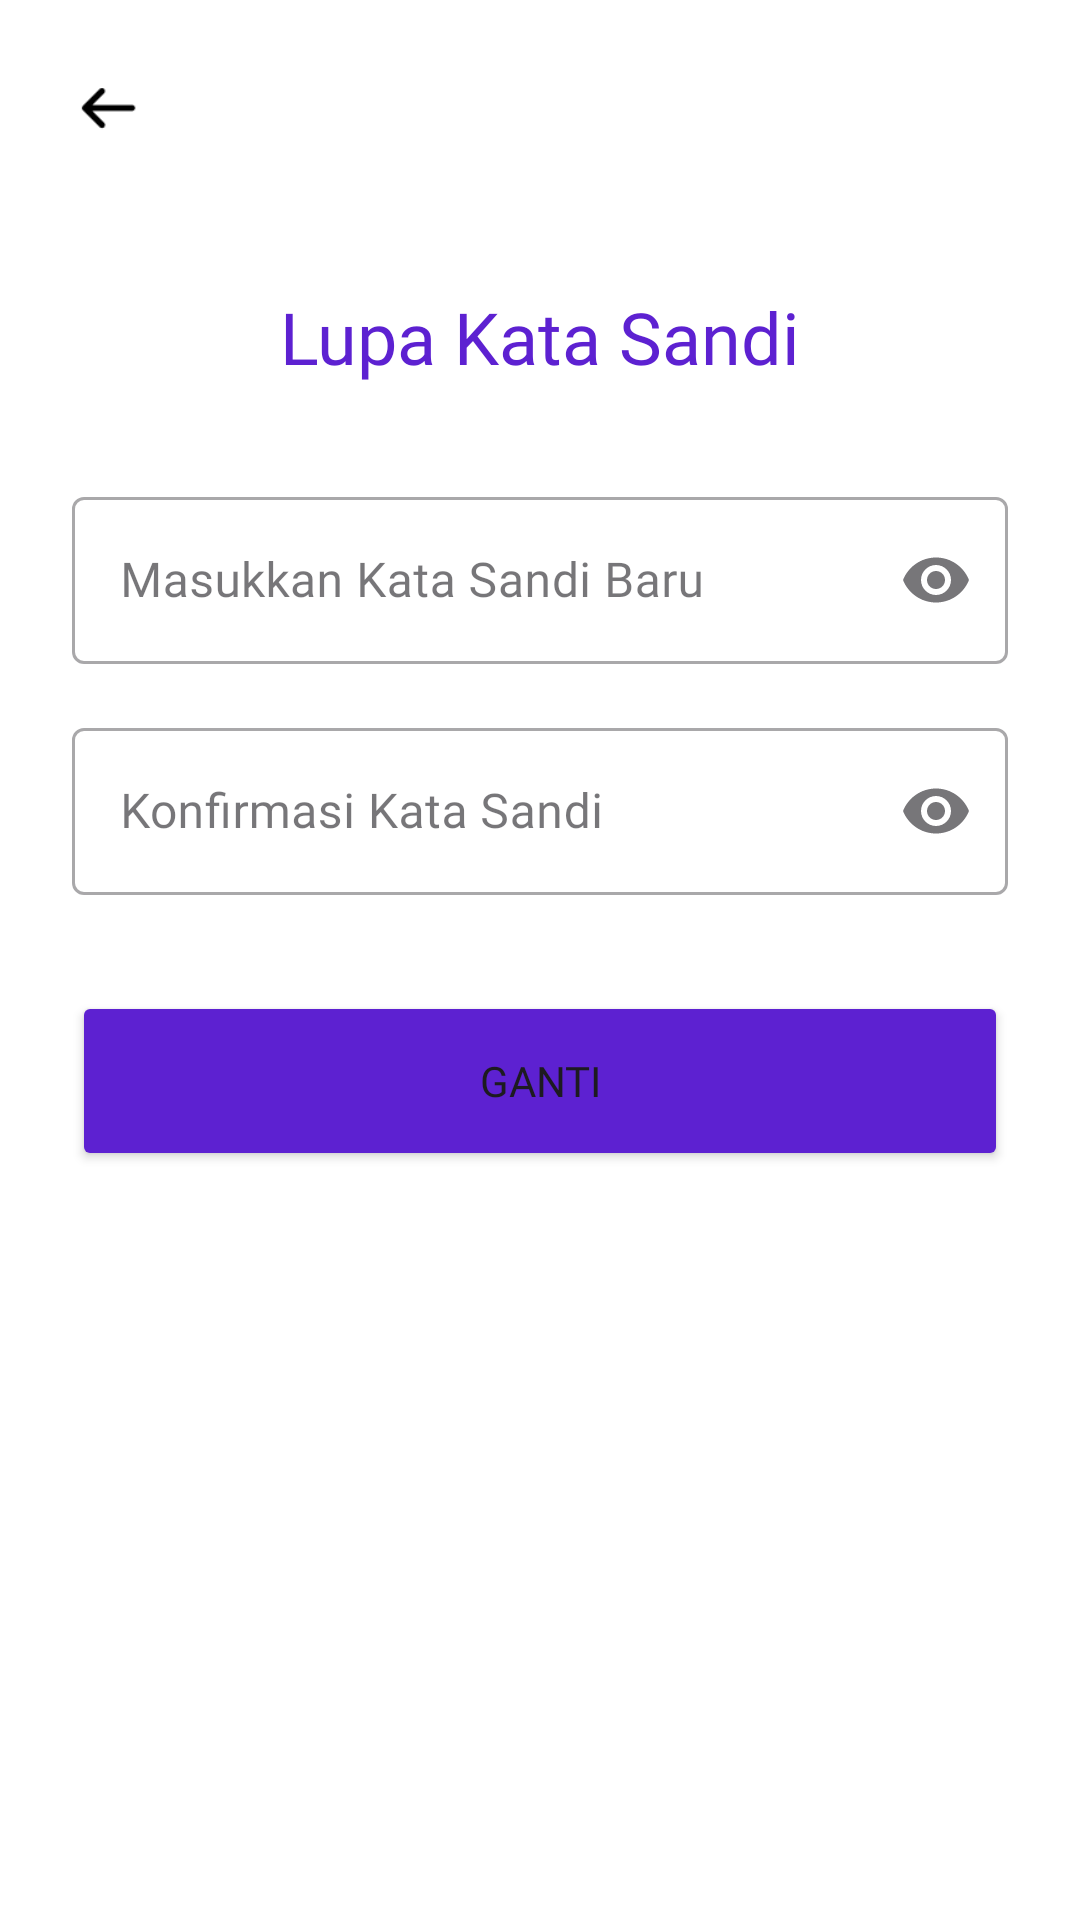

Screen size 1080 x 1920. Icon name, then its center in pixels as (x,y):
Kembali: (108,108)
